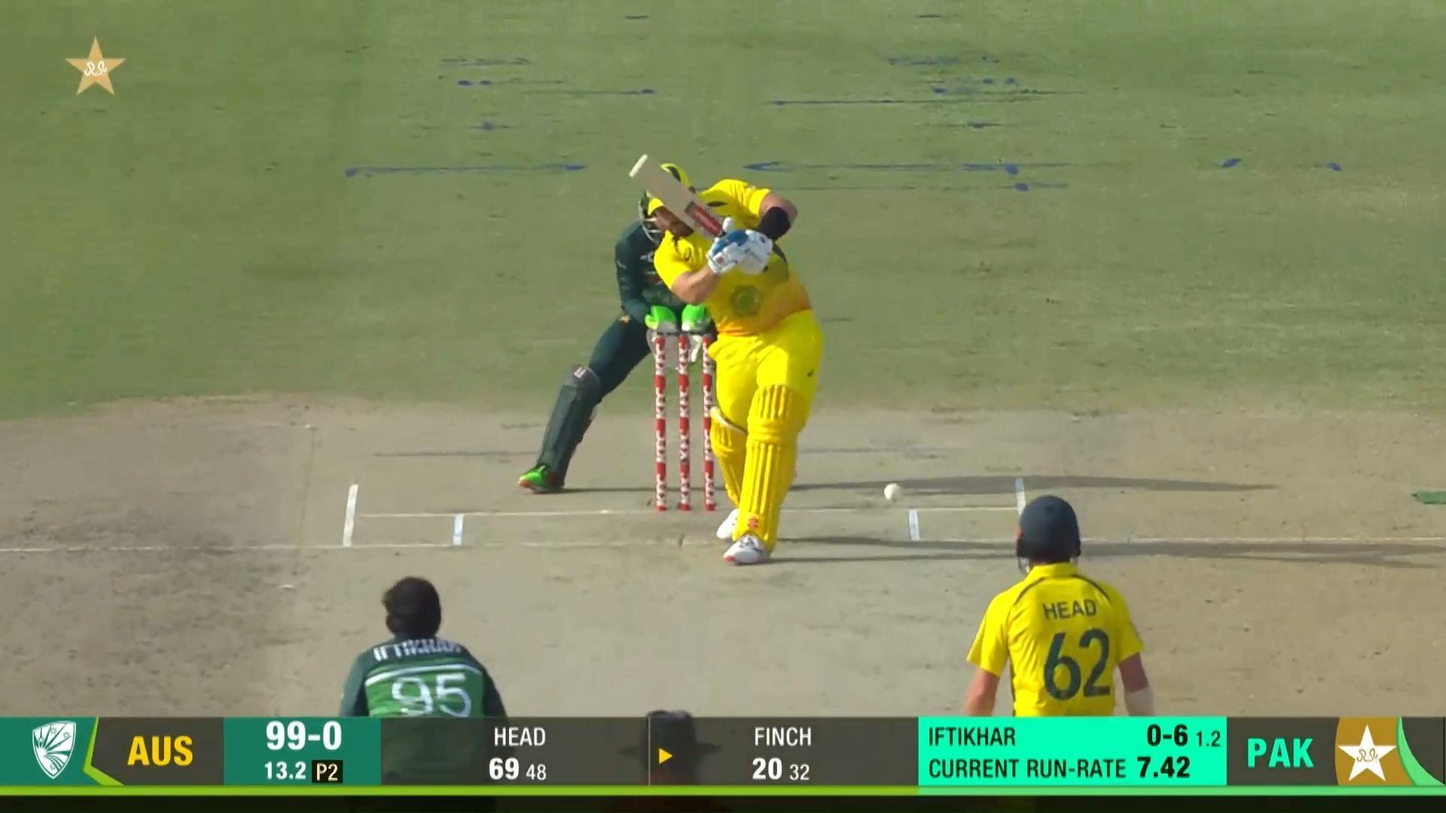BM 1: (622, 147, 823, 568)
BO: (338, 576, 511, 721)
